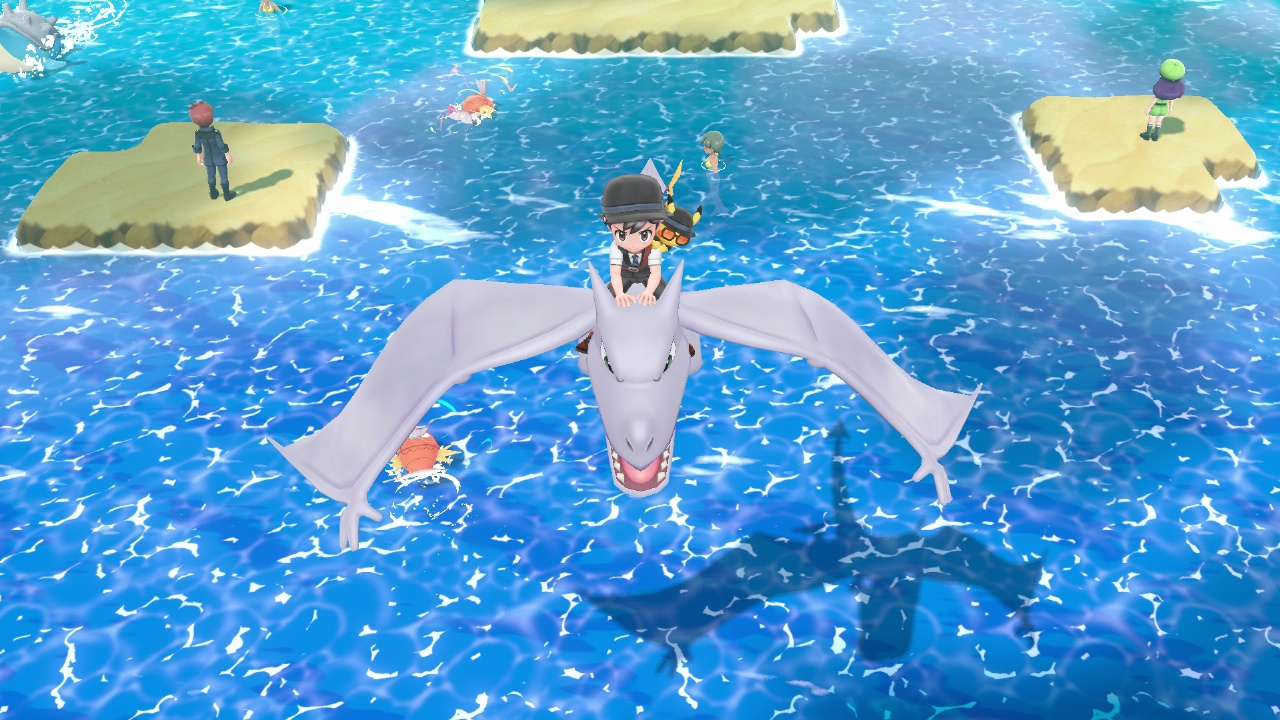Red: (389, 423, 453, 483), (441, 82, 496, 125)
